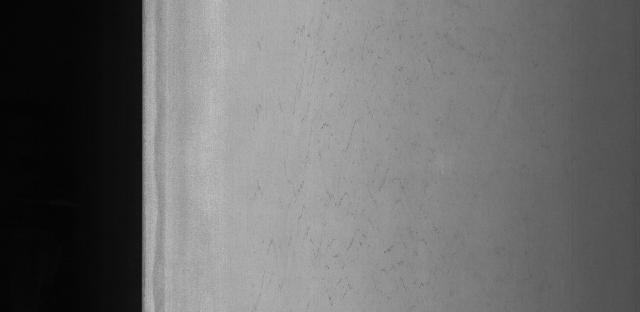silk_spot: (254, 23, 439, 289)
